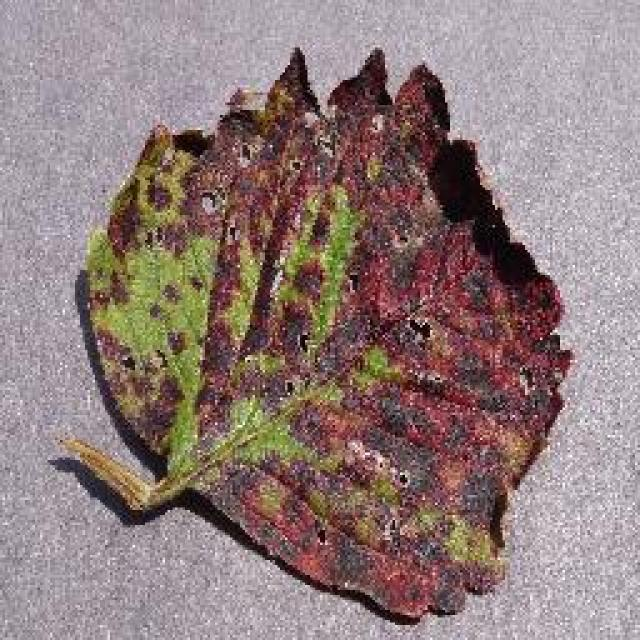Strawberry___Leaf_scorch: (110, 78, 546, 549)
